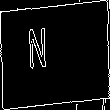N_S: (45, 28, 65, 82)
